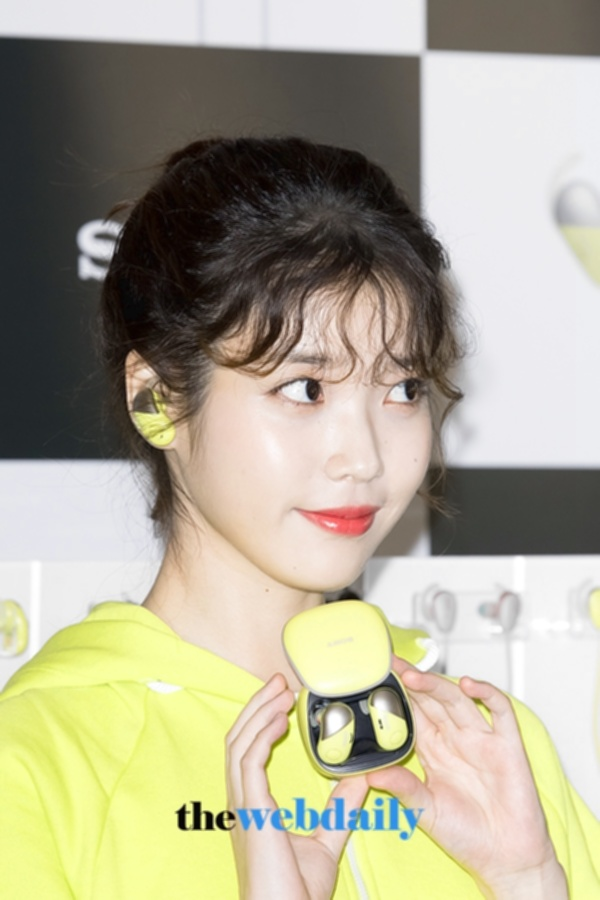earphone: (125, 349, 182, 449)
